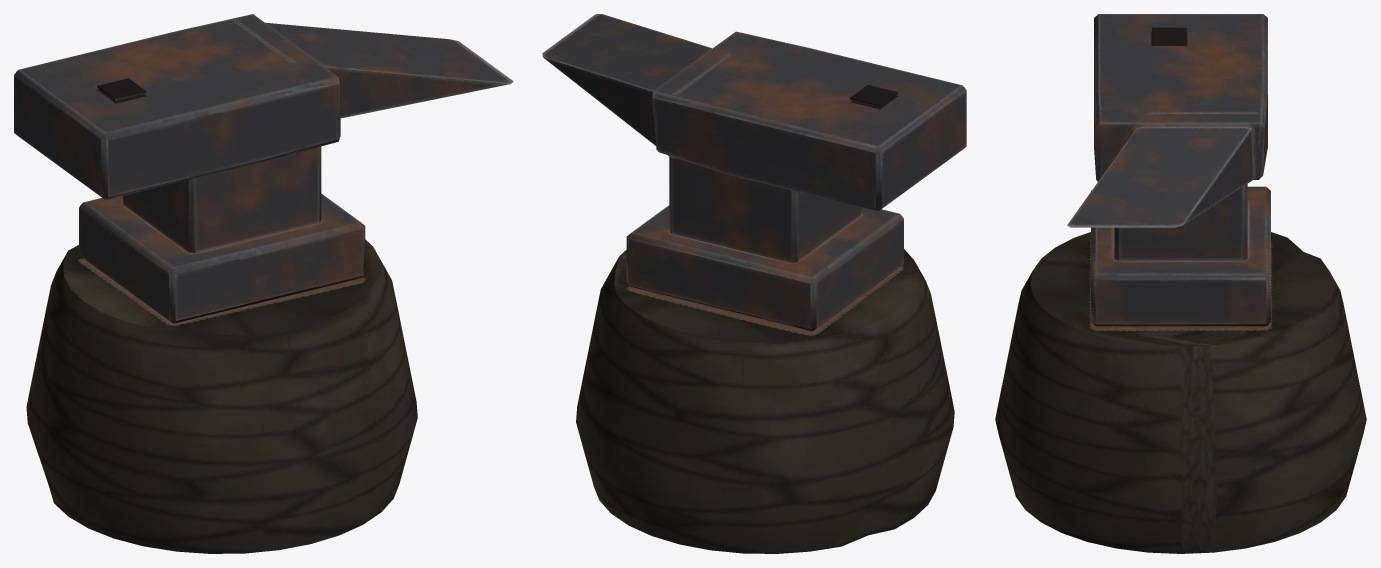
File: anvil.glb
The picture shows the model from 3 angles, left to right: view 1: azimuth 30°, elevation 25°; view 2: azimuth 150°, elevation 25°; view 3: azimuth 270°, elevation 25°; orthographic projection. The views are drawn at different scales.
Visible parts, largest first — view 1: anvil; view 2: anvil; view 3: anvil.
Boxes of the visible parts, bbox=[...] form: anvil: bbox=[14, 14, 513, 553]; anvil: bbox=[542, 14, 966, 553]; anvil: bbox=[995, 14, 1366, 553].
Bounding box in the file's own units: 0.76 × 0.758 × 0.64.
Materials: 1 (1 with a texture image).
